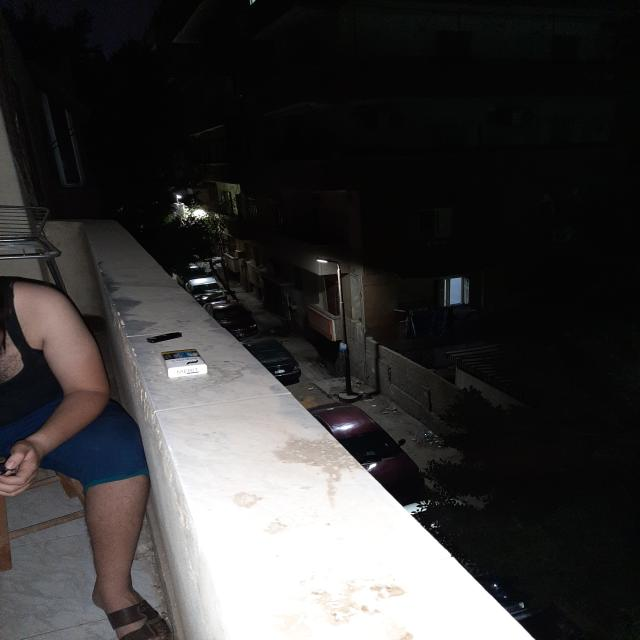Street Light: (316, 258, 354, 396)
